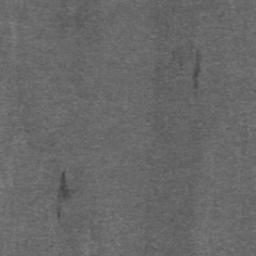Iron scale compression: (58, 173, 74, 206), (192, 54, 200, 93)
